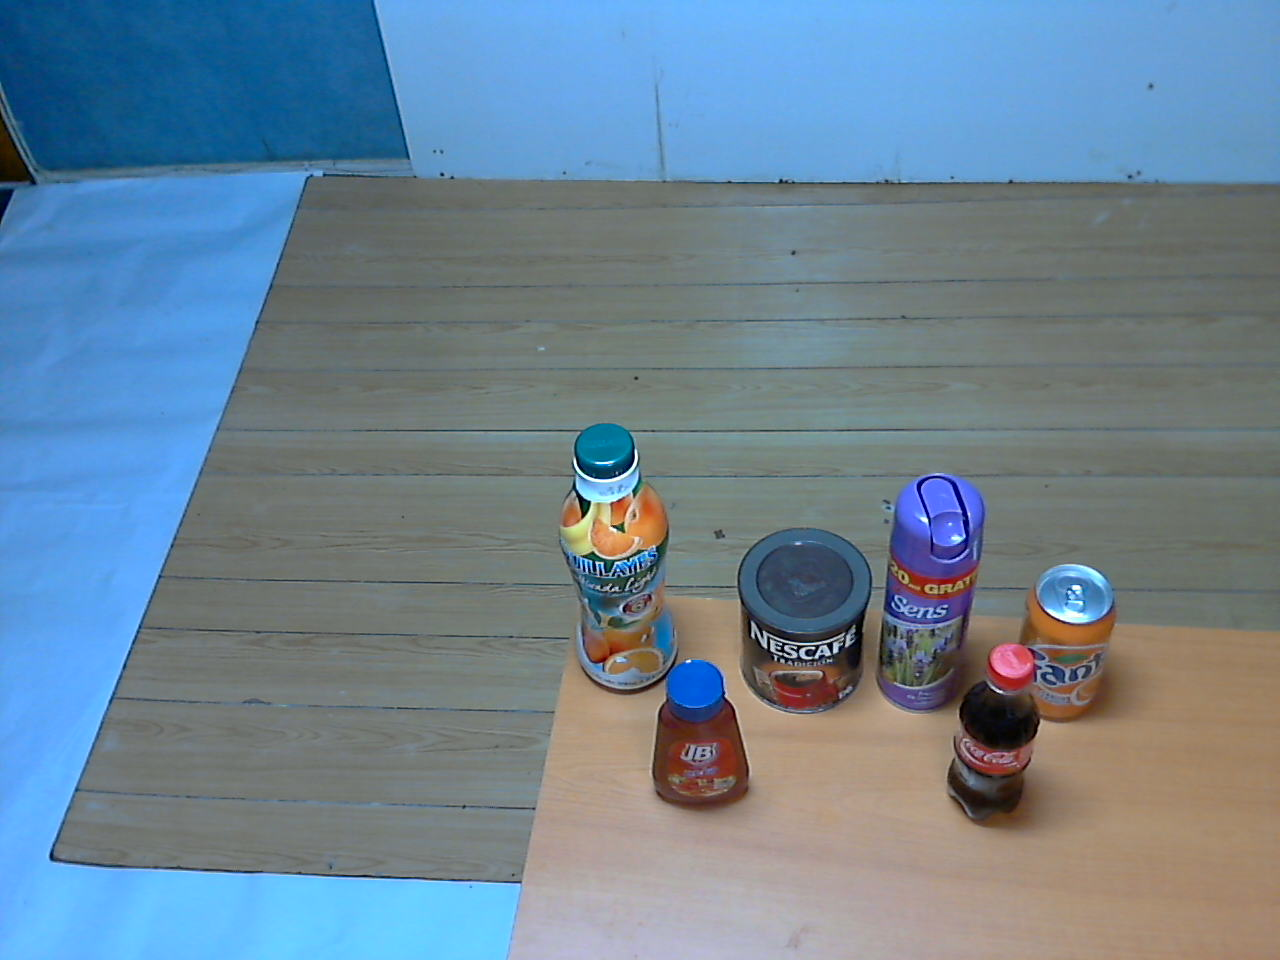aerosol: (871, 466, 994, 729)
cafe: (730, 522, 882, 726)
coca: (936, 639, 1046, 826)
ketchup: (638, 650, 757, 817)
lata: (1008, 557, 1129, 736)
yogurt: (546, 417, 692, 706)
